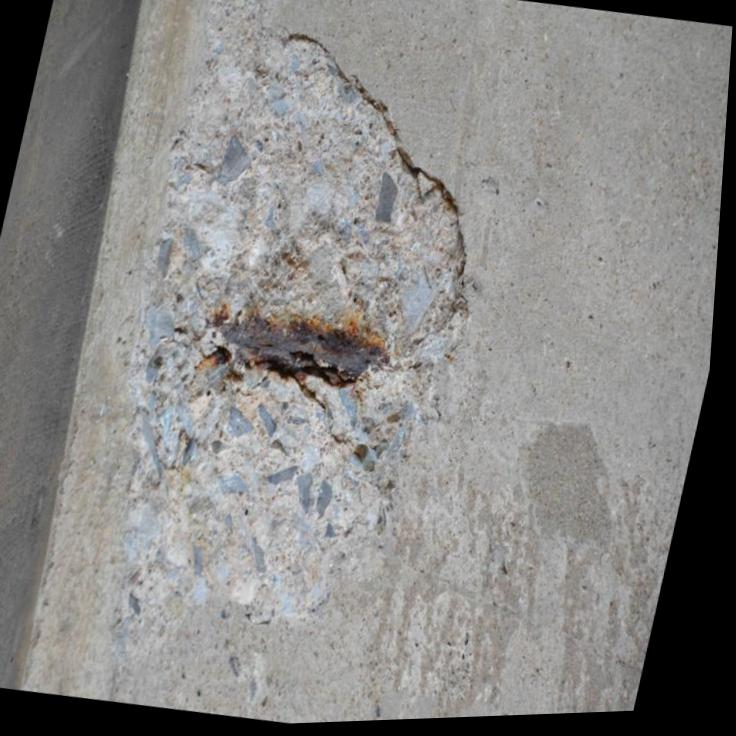damage: (127, 0, 474, 630)
